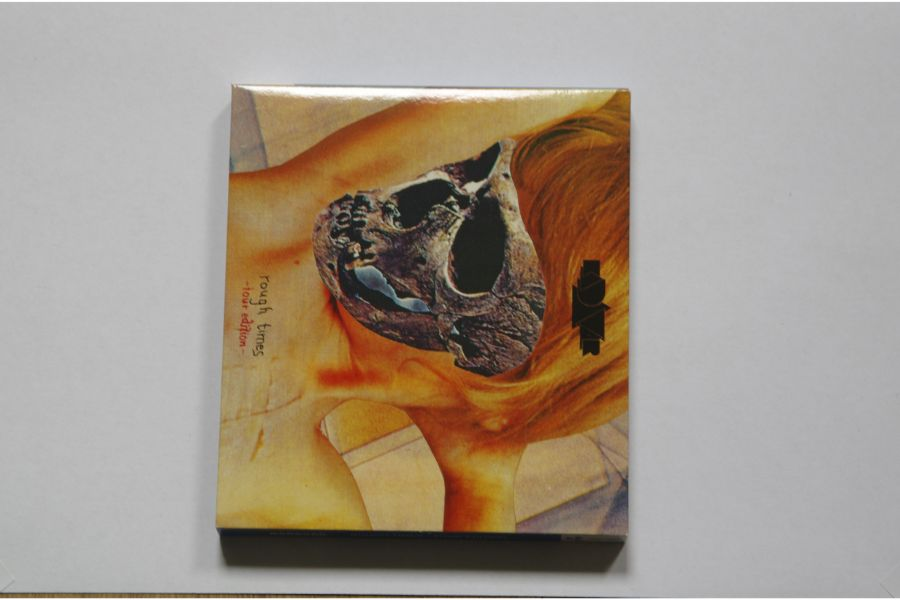album: (212, 81, 629, 540)
